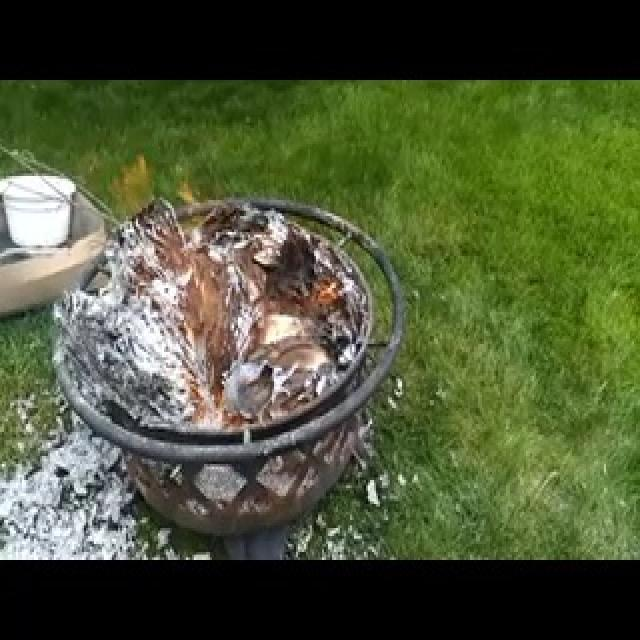fire: (139, 242, 293, 432)
